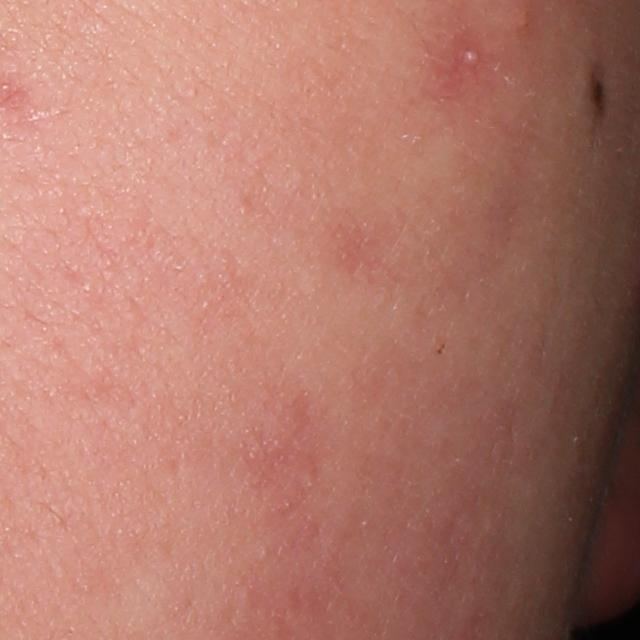nevus: (588, 66, 610, 118)
